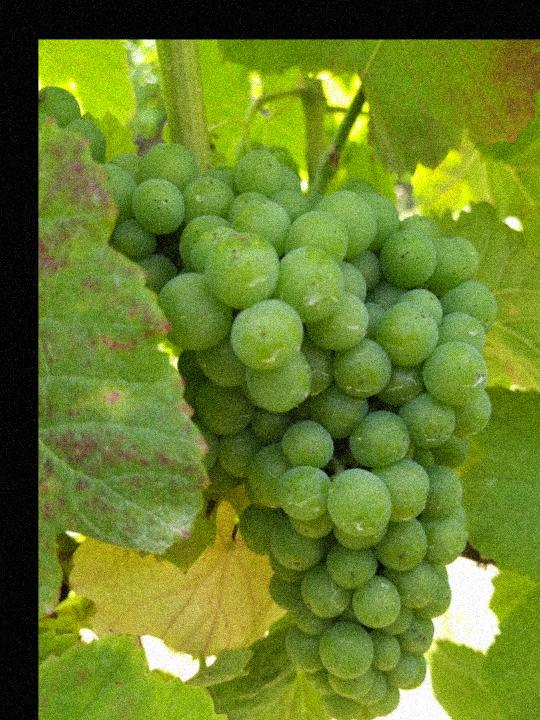grape: (96, 144, 502, 720)
